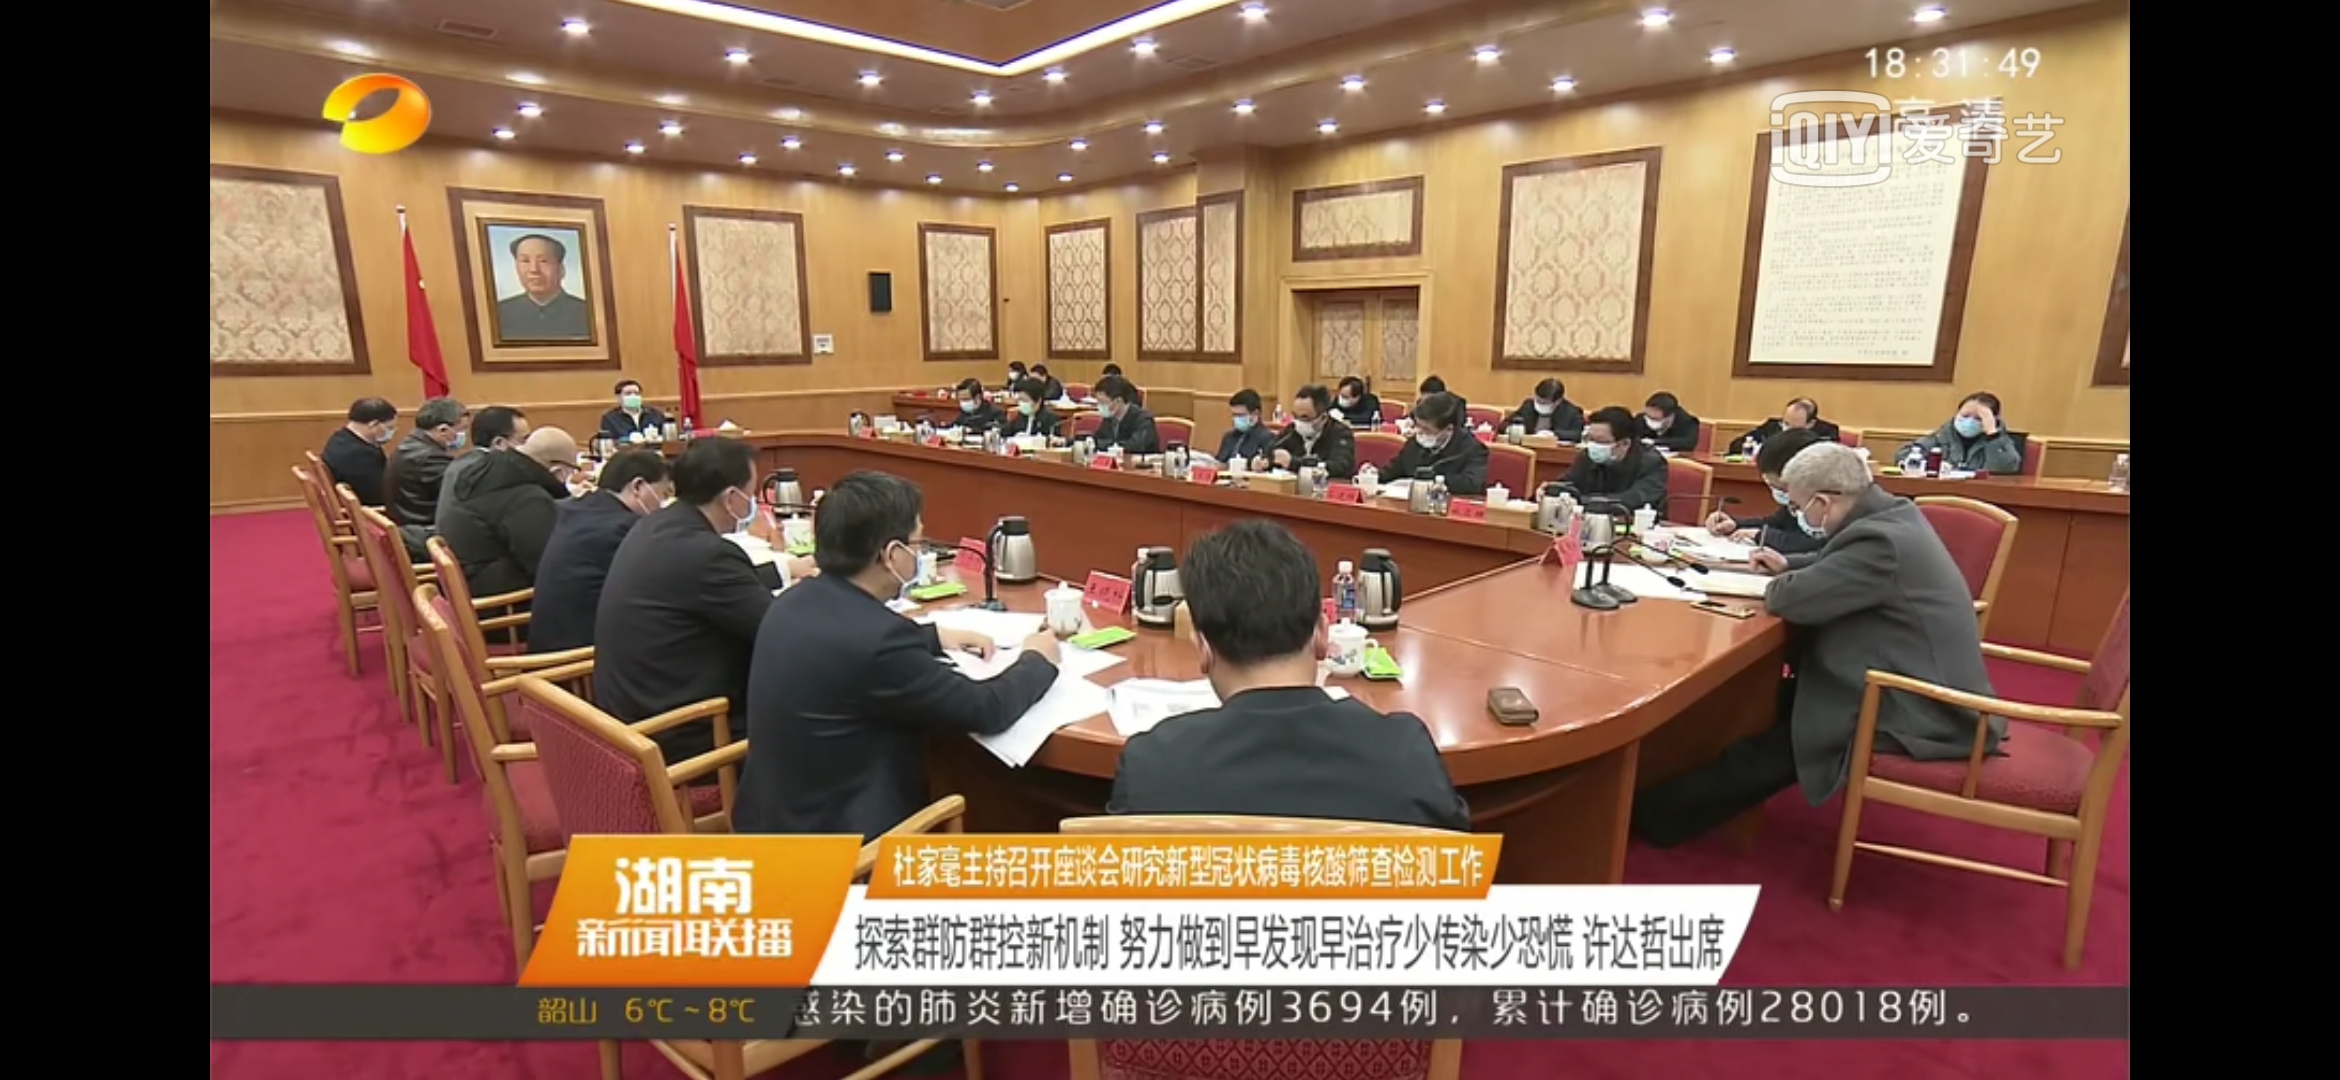correctlyWear: (678, 436, 767, 537), (1788, 453, 1871, 553), (872, 471, 936, 598), (1745, 433, 1818, 509), (1404, 395, 1480, 456), (1577, 409, 1639, 470), (1286, 383, 1339, 439), (1225, 383, 1267, 431), (1952, 392, 1995, 437), (1639, 389, 1680, 434), (360, 400, 398, 445), (1530, 377, 1570, 418), (610, 379, 651, 415), (1091, 380, 1125, 421), (1339, 373, 1370, 412), (437, 407, 467, 448), (1016, 385, 1042, 415), (957, 389, 982, 412)
noWear: (1007, 364, 1022, 380)
